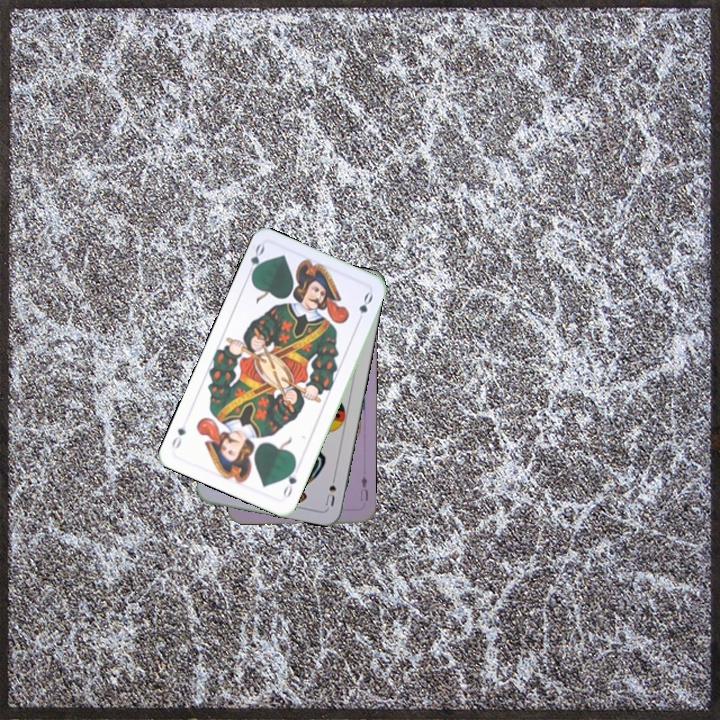EU: (356, 473, 371, 503)
GO: (243, 240, 267, 281), (279, 461, 299, 500)
SU: (321, 470, 339, 509)
